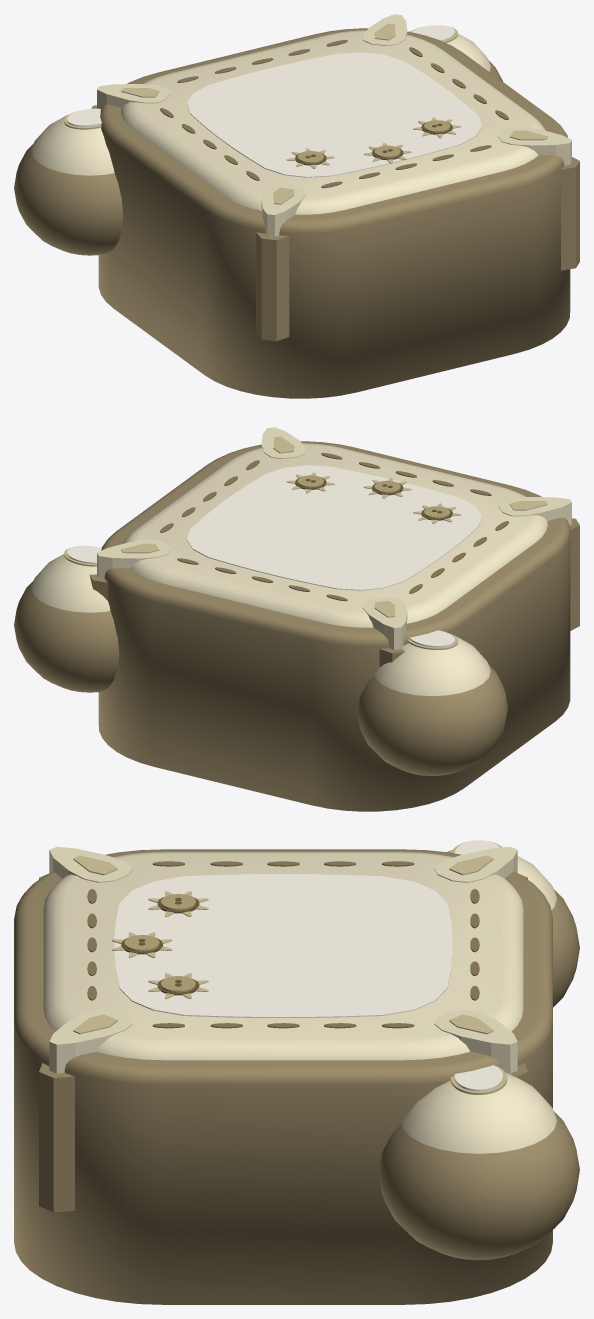
The model's file is body_travesseiro.fbx.
The picture shows the model from 3 angles, top to bottom: view 1: azimuth 30°, elevation 25°; view 2: azimuth 150°, elevation 25°; view 3: azimuth 270°, elevation 25°; orthographic projection. The views are drawn at different scales.
Parts seen in each view (by area): view 1: body_travesseiro_corpo, body_travesseiro_mao_esq, body_travesseiro_mao; view 2: body_travesseiro_corpo, body_travesseiro_mao_esq, body_travesseiro_mao; view 3: body_travesseiro_corpo, body_travesseiro_mao, body_travesseiro_mao_esq.
Part boxes in pixels (left/top/right/bottom): body_travesseiro_corpo: left=91, top=14, right=579, bottom=398; body_travesseiro_mao_esq: left=14, top=108, right=123, bottom=255; body_travesseiro_mao: left=409, top=25, right=502, bottom=81; body_travesseiro_corpo: left=89, top=427, right=579, bottom=811; body_travesseiro_mao_esq: left=357, top=630, right=507, bottom=775; body_travesseiro_mao: left=14, top=545, right=119, bottom=692; body_travesseiro_corpo: left=14, top=846, right=552, bottom=1304; body_travesseiro_mao: left=378, top=1065, right=579, bottom=1260; body_travesseiro_mao_esq: left=447, top=840, right=579, bottom=1007.
Bounding box in the file's own units: 5.4 × 2.04 × 4.2.
1 material, 1 textured.
